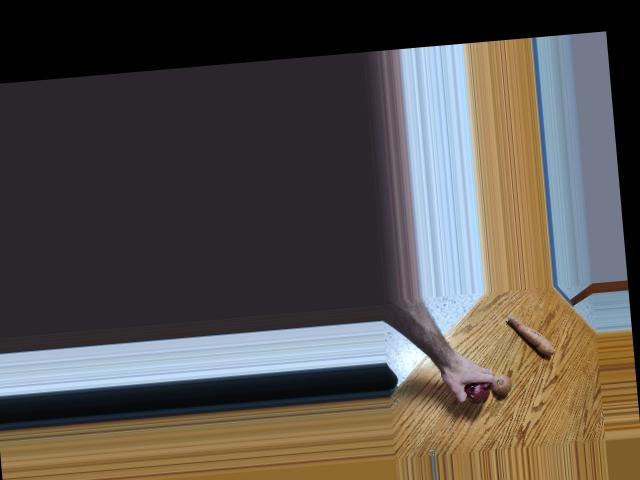onion: (488, 372, 513, 396)
